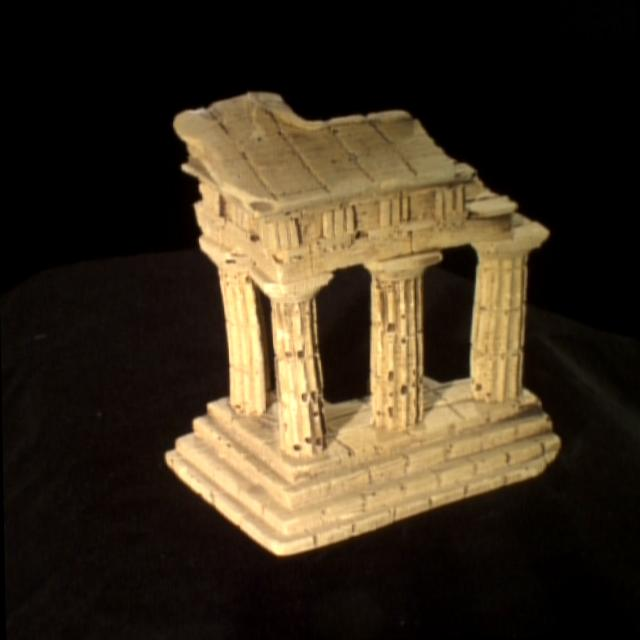Instance-Segmentation: (169, 92, 559, 554)
